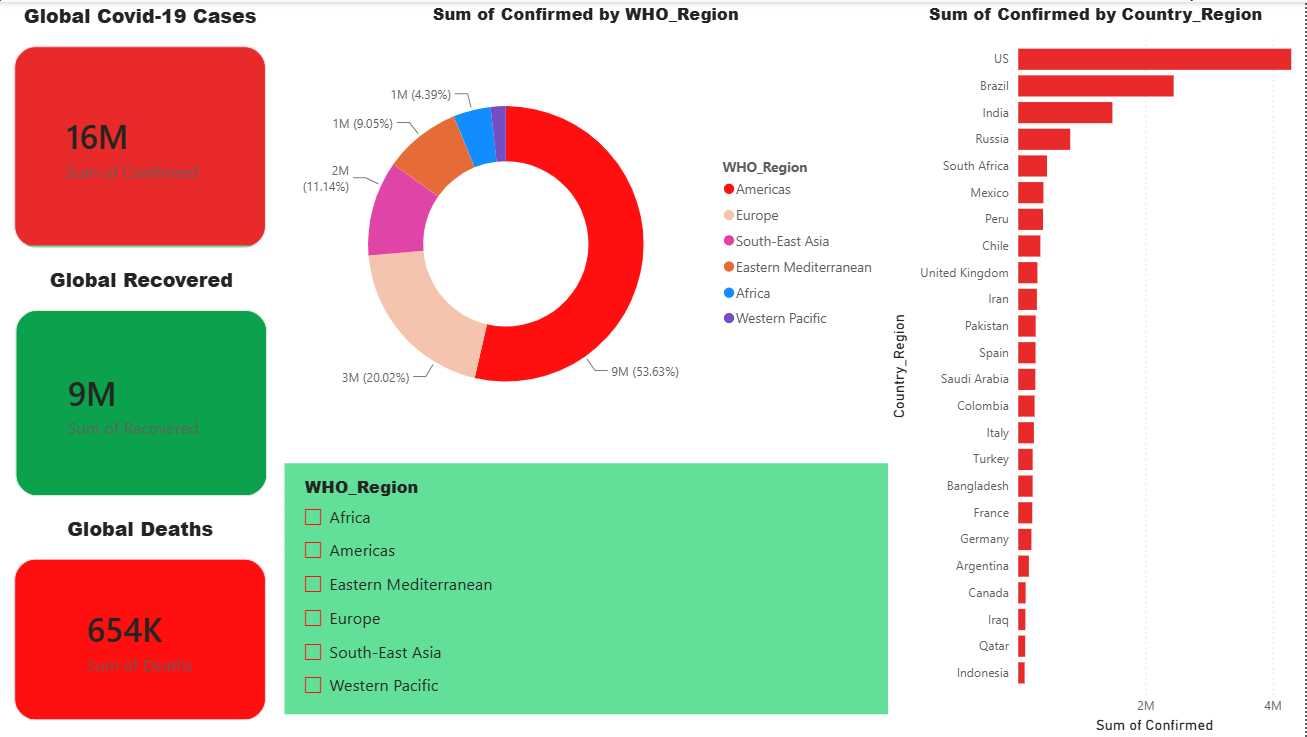

The page's visual inventory and layout, read from the dashboard file:
{"tool":"powerbi","page":{"name":"Page 1","canvas":[1280,720],"ordinal":0},"visuals":[{"type":"cardVisual","title":"Global Covid-19 Cases","fields":{"Data":["Sum(covid_cleaned_final.Confirmed)"]},"box":[0,0,280,258],"z":0},{"type":"cardVisual","title":"Global Deaths","fields":{"Data":["Sum(covid_cleaned_final.Deaths)"]},"box":[0,501.4,280,218.9],"z":1},{"type":"cardVisual","title":"Global Recovered","fields":{"Data":["Sum(covid_cleaned_final.Recovered)"]},"box":[1.2,258,280,243.3],"z":2},{"type":"donutChart","fields":{"Category":["covid_cleaned_final.WHO_Region"],"Y":["Sum(covid_cleaned_final.Confirmed)"]},"box":[281.3,0,589.4,451.2],"z":3},{"type":"clusteredBarChart","fields":{"Category":["covid_cleaned_final.Country_Region"],"Y":["Sum(covid_cleaned_final.Confirmed)"]},"box":[869.4,0,410.9,720.2],"z":4},{"type":"slicer","fields":{"Values":["covid_cleaned_final.WHO_Region"]},"box":[281.3,451.2,590.6,245.8],"z":5}]}

Visuals, with their boxes in screenshot pixels (x1, y1, x2, y2), scaled from the page's 1280x720 canvas onto the 1307x737 screenshot:
"Global Covid-19 Cases" cardVisual: 0,0,286,264
"Global Deaths" cardVisual: 0,513,286,736
"Global Recovered" cardVisual: 1,264,287,513
donutChart - covid_cleaned_final.WHO_Region x Sum(covid_cleaned_final.Confirmed): 287,0,889,462
clusteredBarChart - covid_cleaned_final.Country_Region x Sum(covid_cleaned_final.Confirmed): 888,0,1306,736
slicer - covid_cleaned_final.WHO_Region: 287,462,890,713
